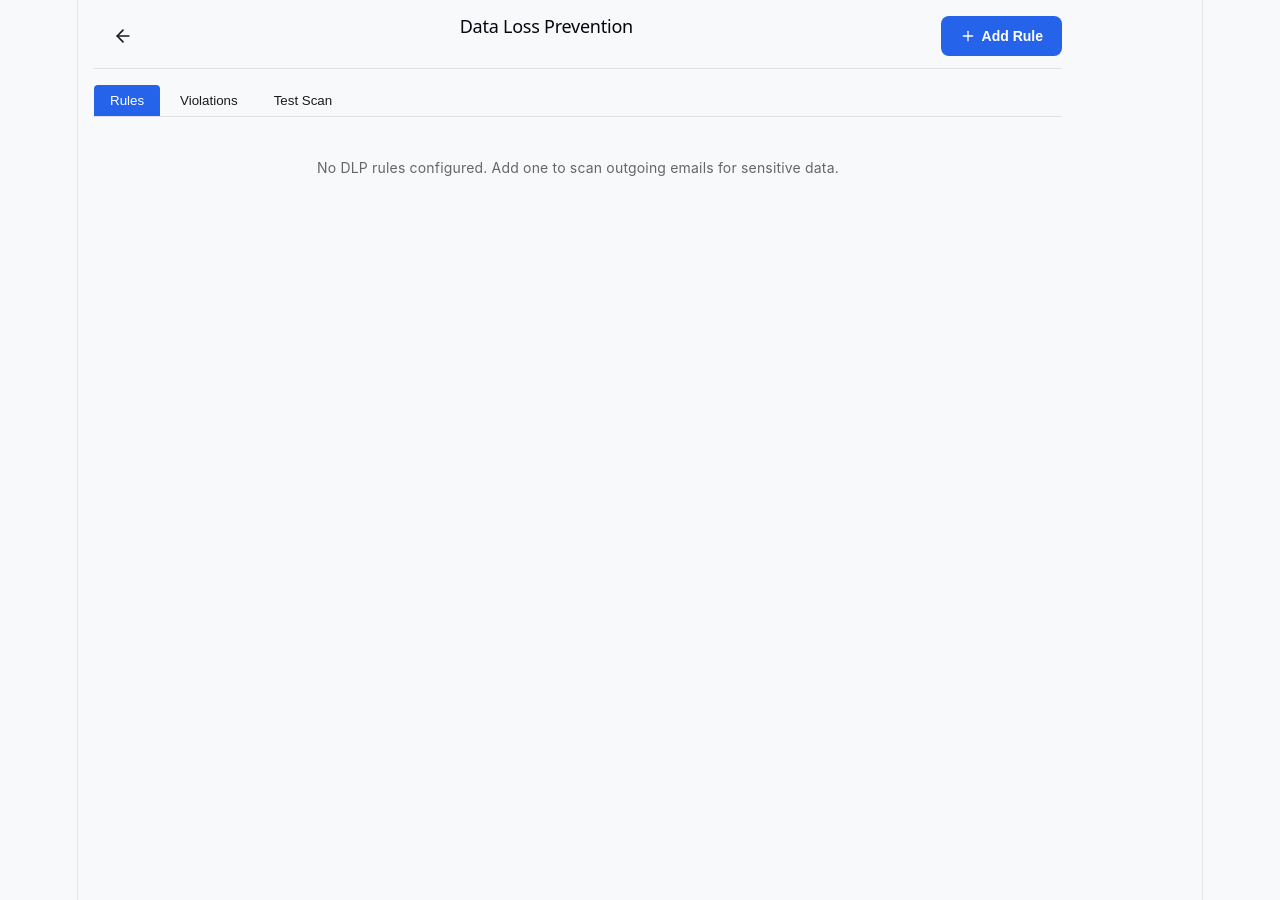
Test: DlpManager › switches to violations tab and shows empty state
The image size is (1280, 900).
Check: the heading "Data Loss Prevention" is shown, box top-left (460, 14), bottom-right (633, 38)
Click the button "Violations": point(209, 100) top-left (164, 85), bottom-right (254, 116)
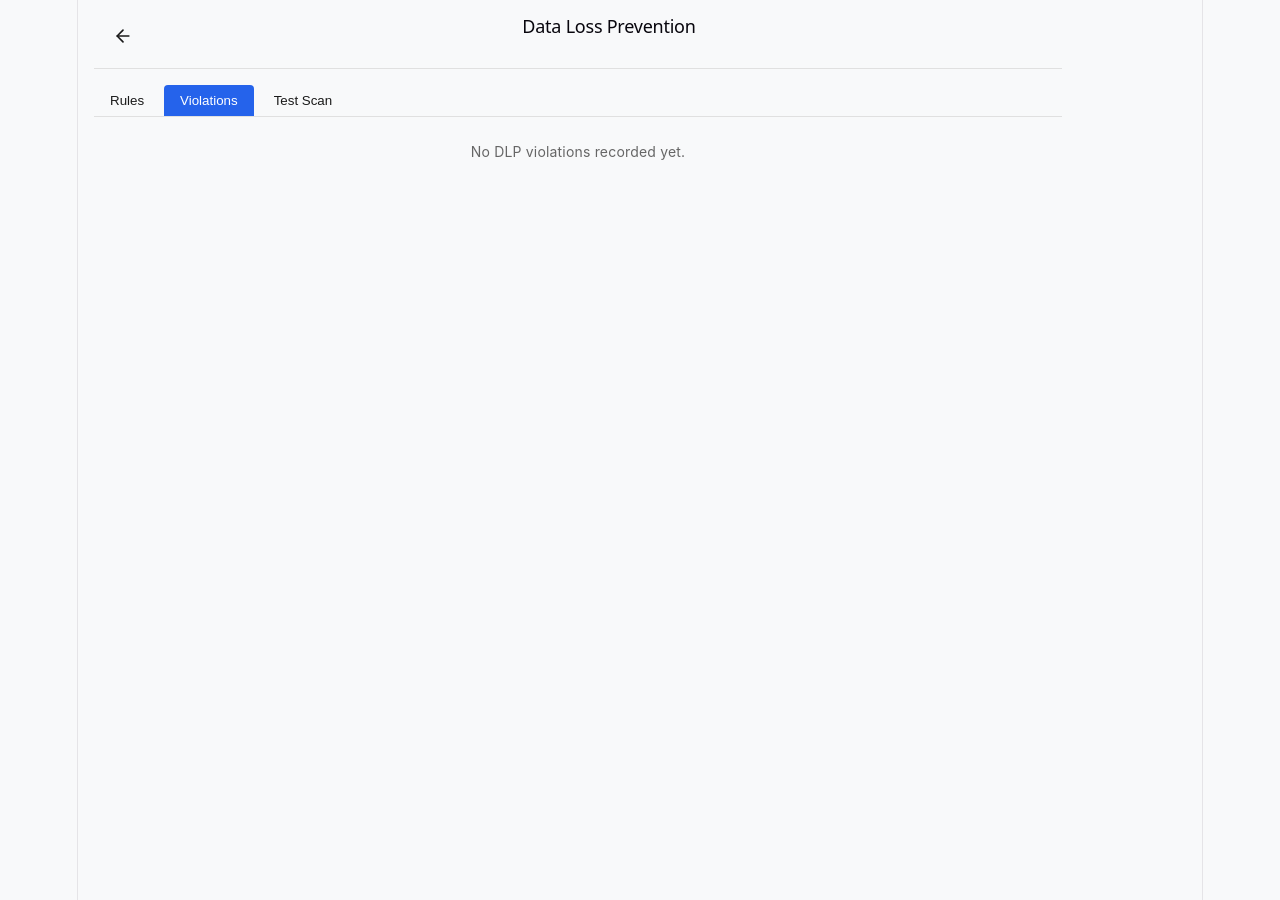
Check: the text "No DLP violations recorded yet." is shown, box top-left (471, 143), bottom-right (685, 160)
